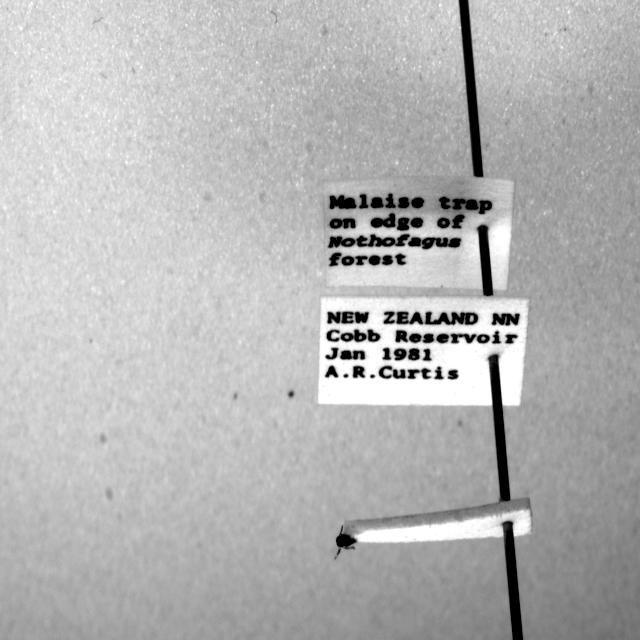typed_label: (319, 296, 529, 405), (324, 176, 515, 291)
